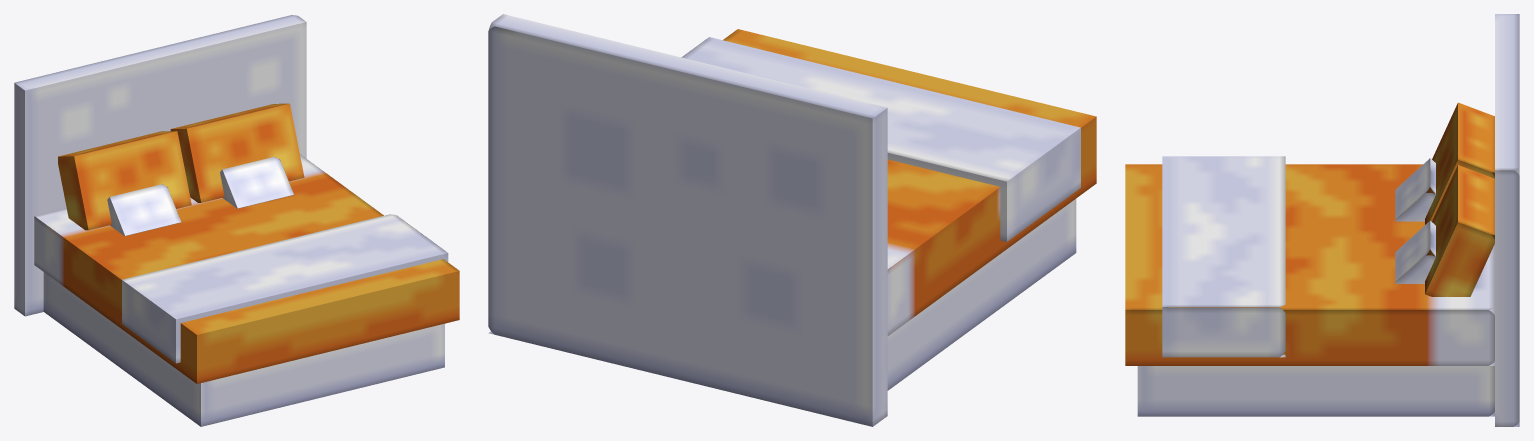
The model's file is bed_100.obj.
The picture shows the model from 3 angles, left to right: view 1: azimuth 30°, elevation 25°; view 2: azimuth 150°, elevation 25°; view 3: azimuth 270°, elevation 25°; orthographic projection. The views are drawn at different scales.
Bounding box in the file's own units: 1.88 × 1.44 × 2.
1 material, 1 textured.
